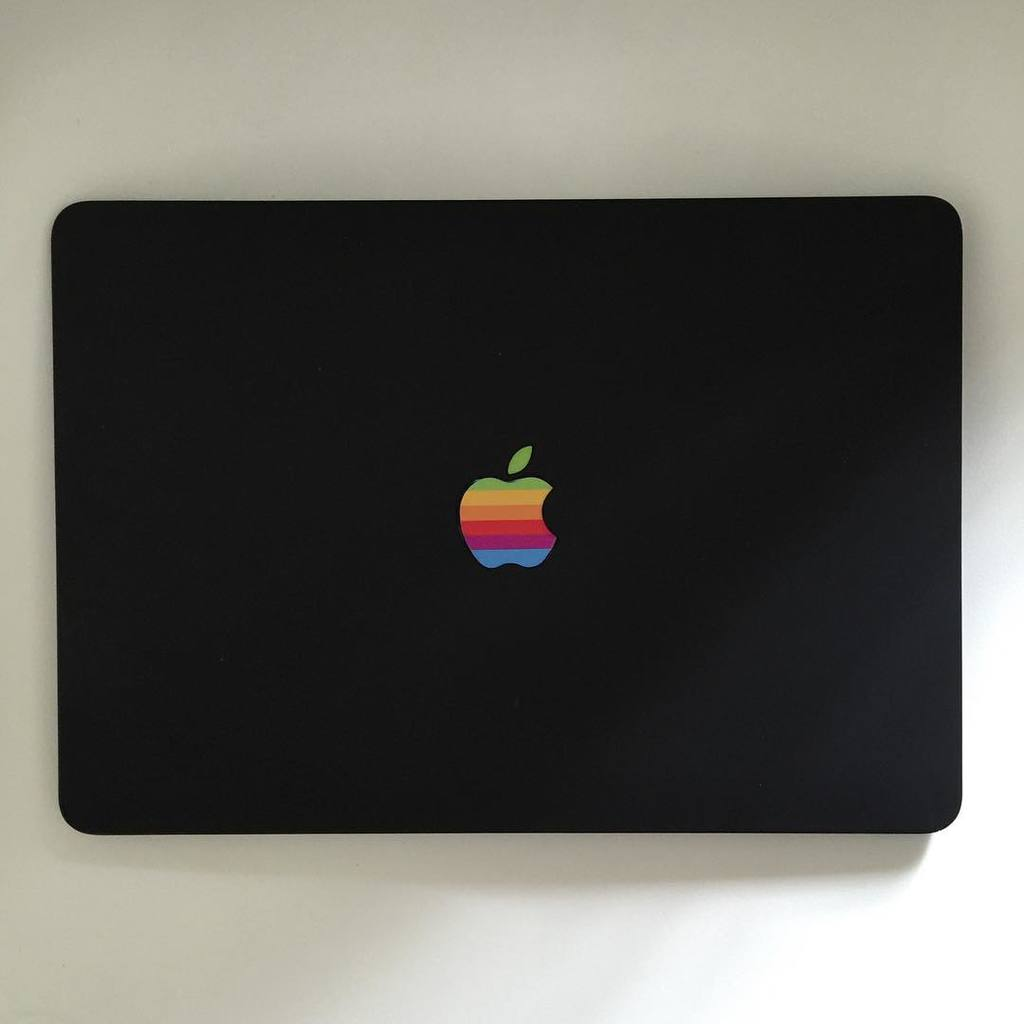Apple: (457, 442, 557, 564)
